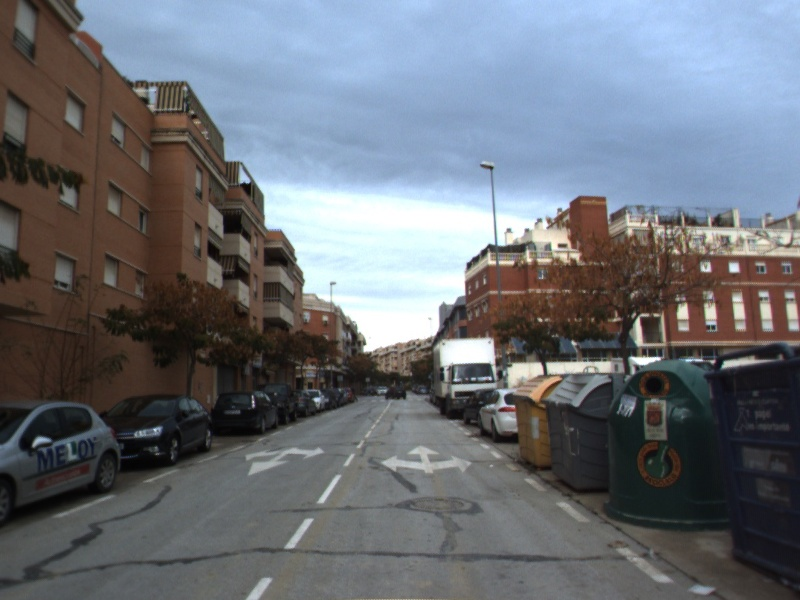STRAIGHT_LEFT_RIGHT: (379, 443, 474, 475)
